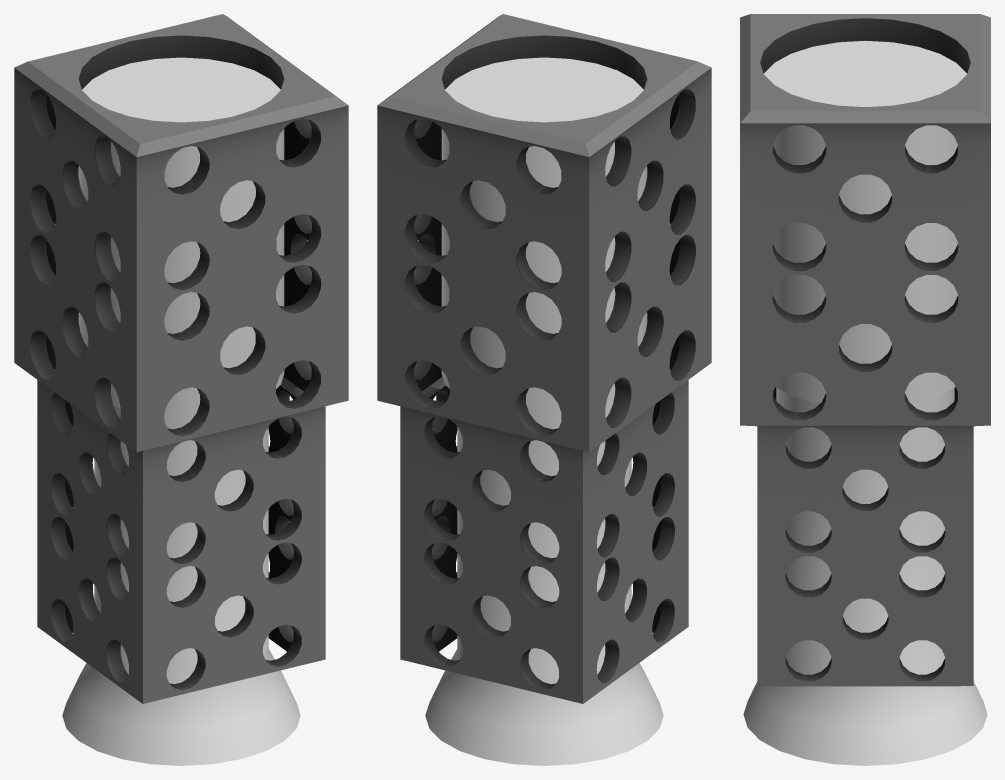
Rendered from AntennaConcept2.fbx.
3 renders of one model, left to right at view 1: azimuth 30°, elevation 25°; view 2: azimuth 150°, elevation 25°; view 3: azimuth 270°, elevation 25°, orthographic. The views are drawn at different scales.
Visible parts, largest first — view 1: TopOutside.002, ATS-Artist Antenna; view 2: TopOutside.002, ATS-Artist Antenna; view 3: TopOutside.002, ATS-Artist Antenna.
Part boxes in pixels (left/top/right/bottom): TopOutside.002: left=14, top=14, right=348, bottom=703; ATS-Artist Antenna: left=62, top=57, right=300, bottom=765; TopOutside.002: left=377, top=14, right=711, bottom=703; ATS-Artist Antenna: left=425, top=57, right=663, bottom=765; TopOutside.002: left=740, top=14, right=990, bottom=686; ATS-Artist Antenna: left=743, top=40, right=987, bottom=765.
Bounding box in the file's own units: 14.49 × 41.55 × 14.49.
Materials: 2 (1 with a texture image).
